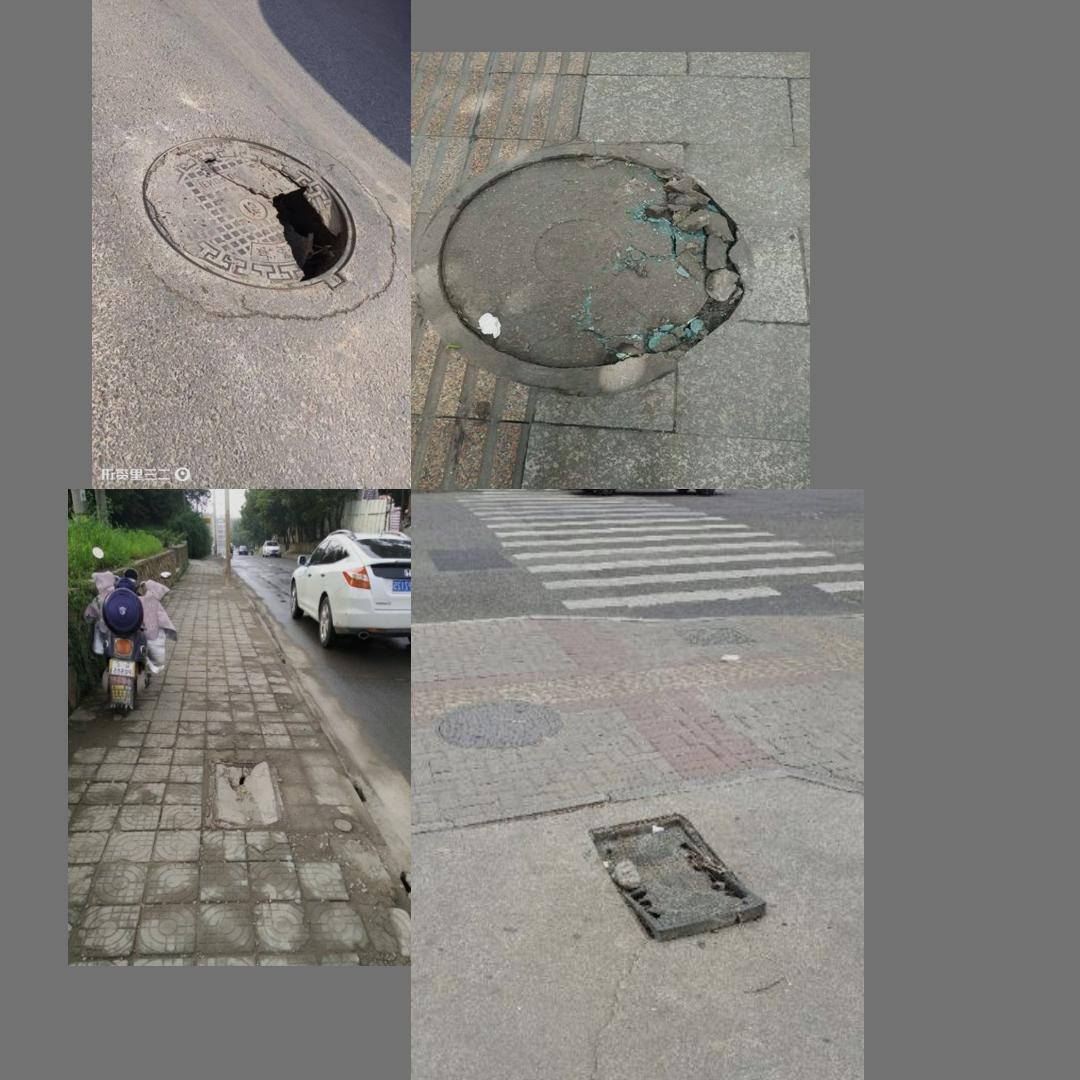broke: (417, 140, 762, 397), (116, 126, 393, 333), (588, 812, 768, 940), (204, 757, 283, 828)
good: (431, 698, 563, 749)
